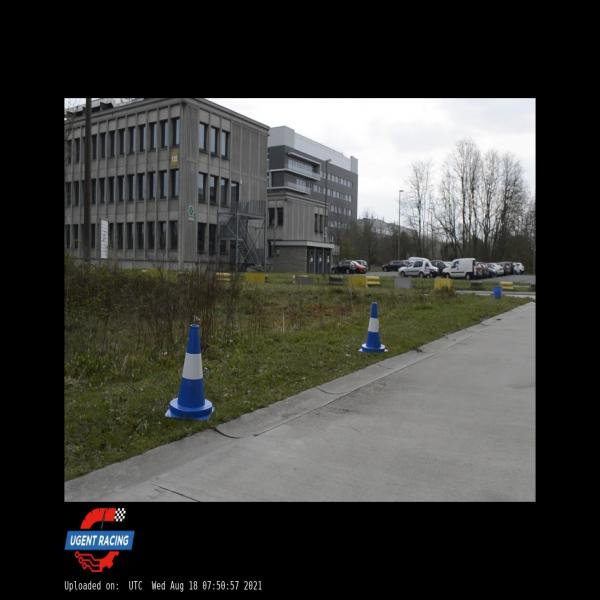blue_cone: (164, 325, 215, 421), (358, 301, 388, 352)
